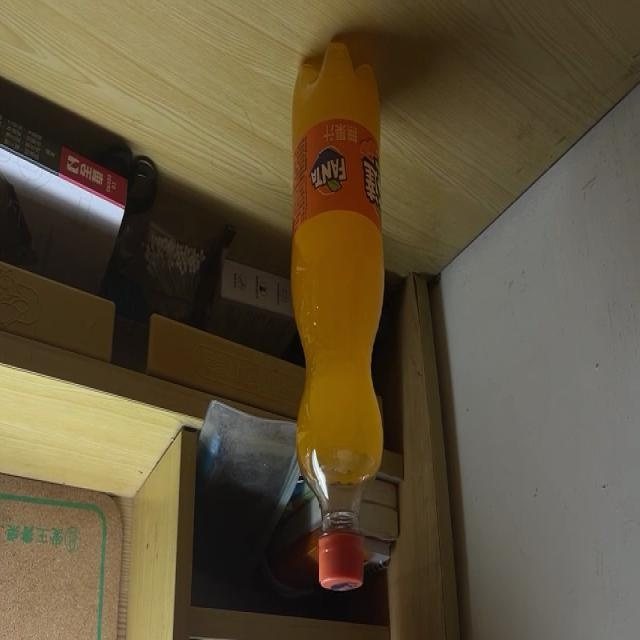Fanta: (290, 37, 384, 594)
